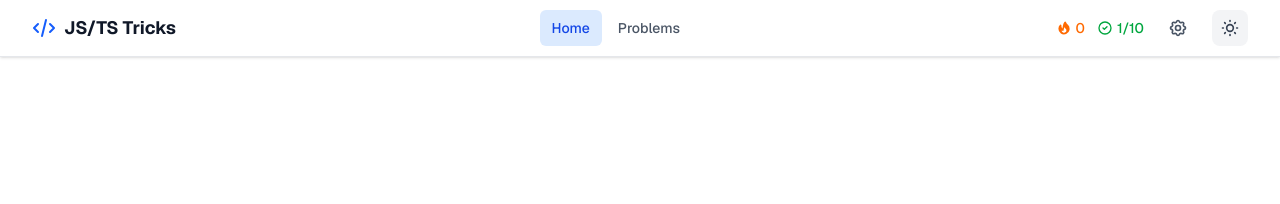
Test: Navbar › Settings Menu Toggle › should show singular "problem" when only one is solved
Click the button named "settings" at (1178, 28), box [1160,10,1196,46]
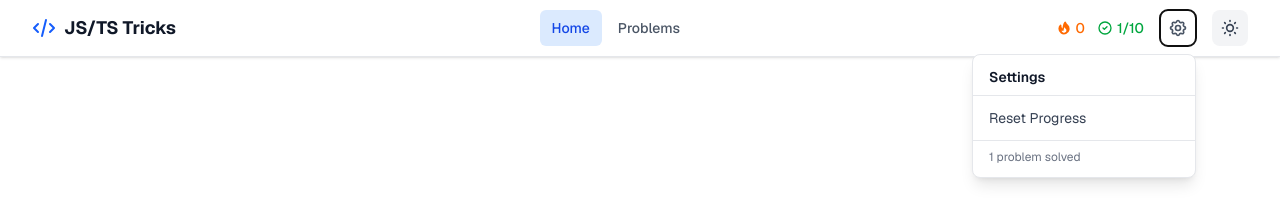
Now the text "1 problem solved" is shown, box [989,149,1080,165]
